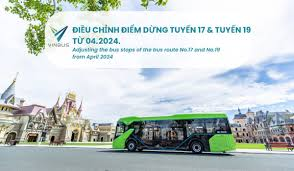bus: (113, 111, 239, 156)
